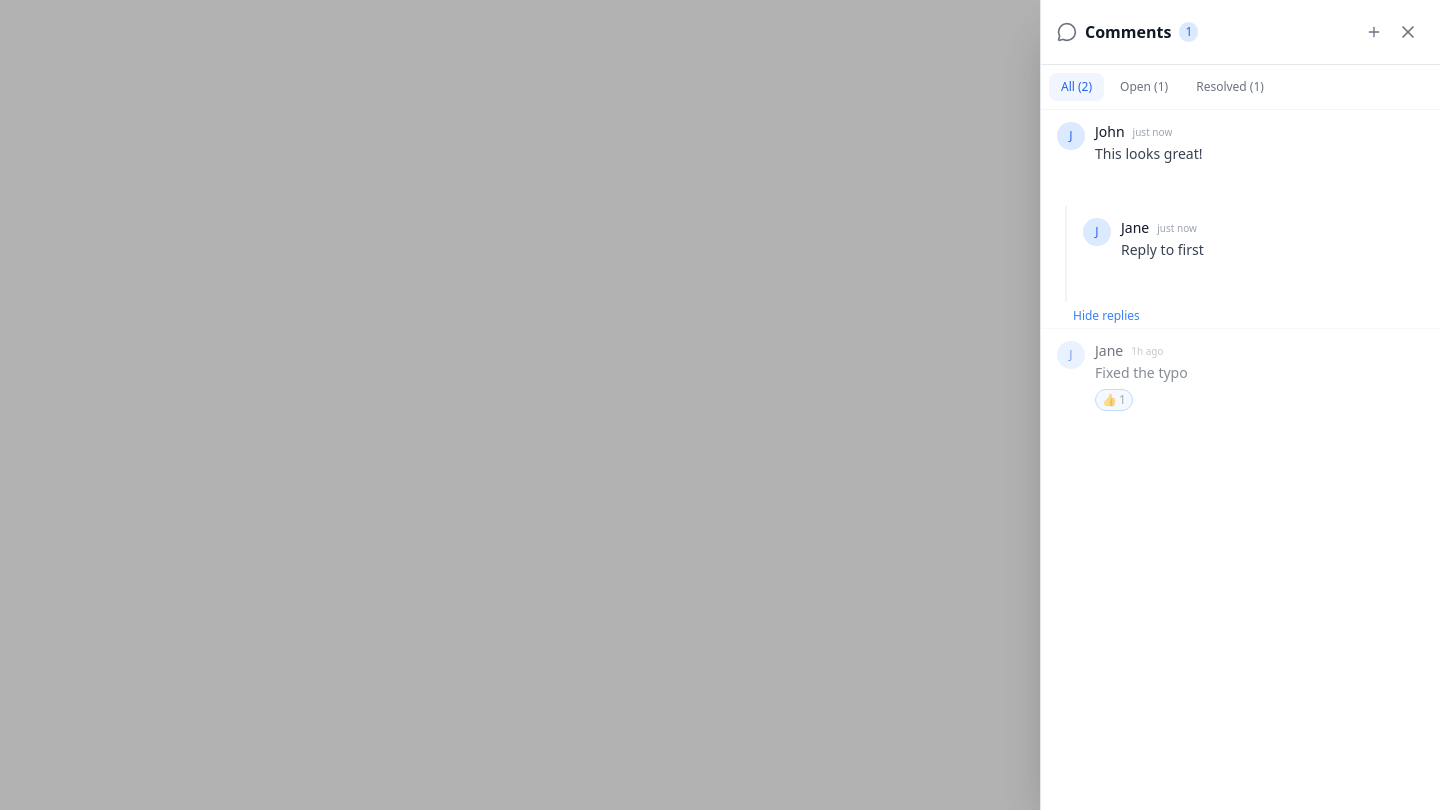
Test: CommentsSidebar › shows new comment input when plus clicked
Click the button named "New comment".
click(1374, 32)  # box [1360,18,1388,46]
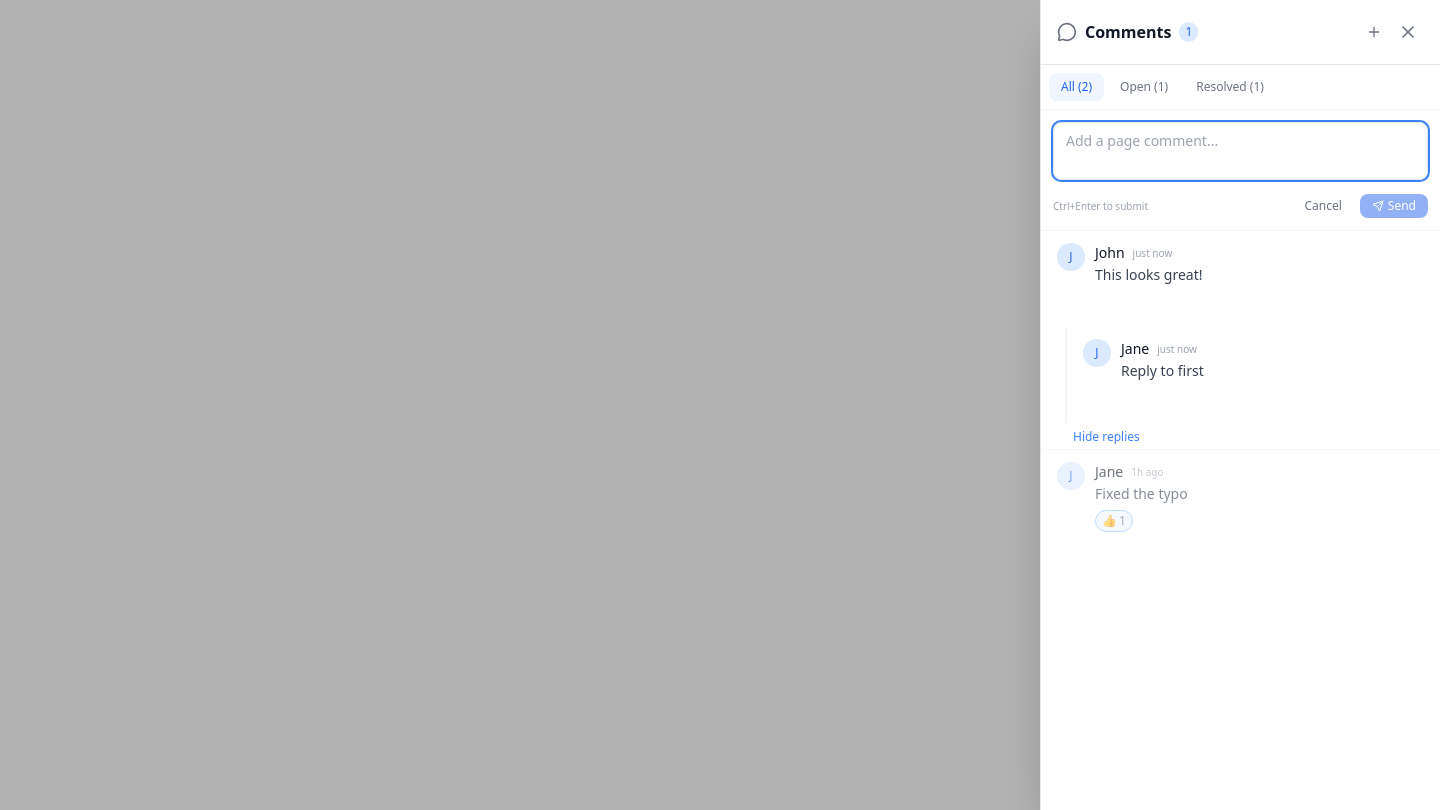
Expected: the text box with placeholder "Add a page comment..." is shown, [1053,122,1428,180]
